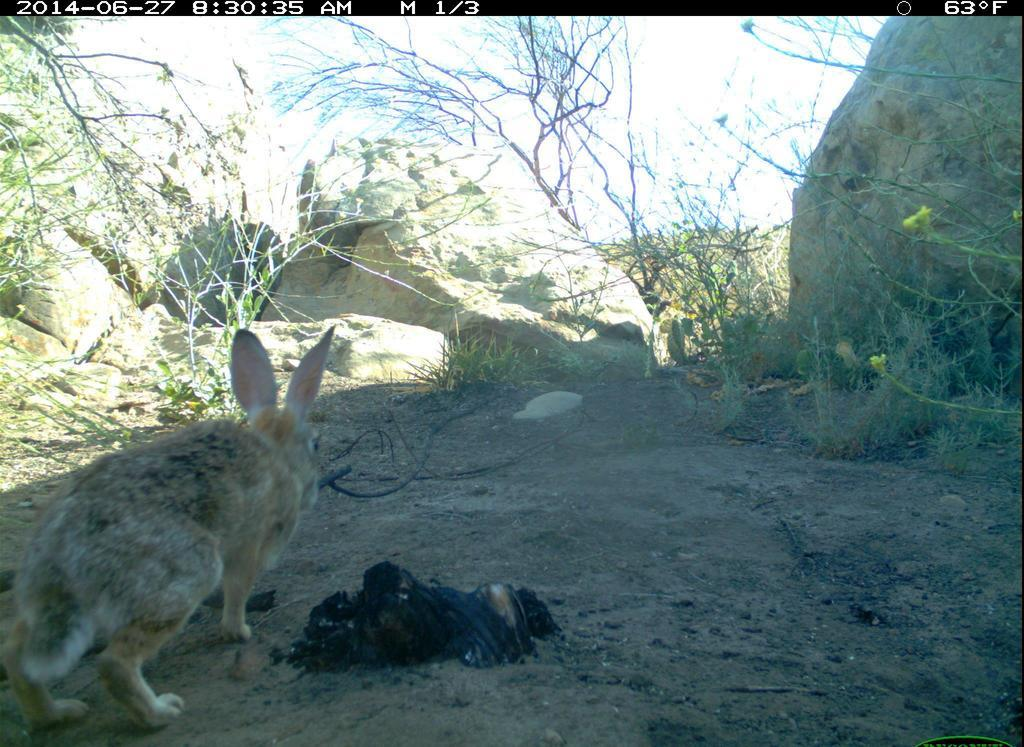rabbit: (7, 326, 342, 734)
